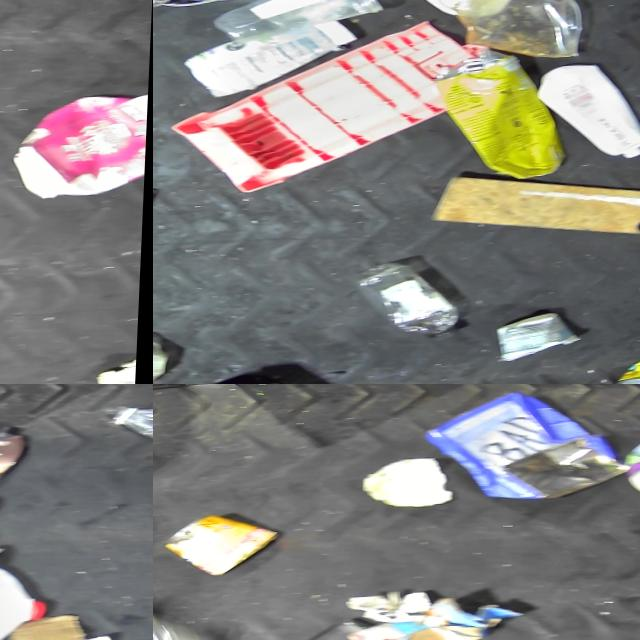can: (163, 513, 283, 579), (156, 0, 277, 13)
non_white_jug: (13, 98, 150, 205)
plastic_bottle: (361, 256, 484, 346), (106, 404, 153, 454)
